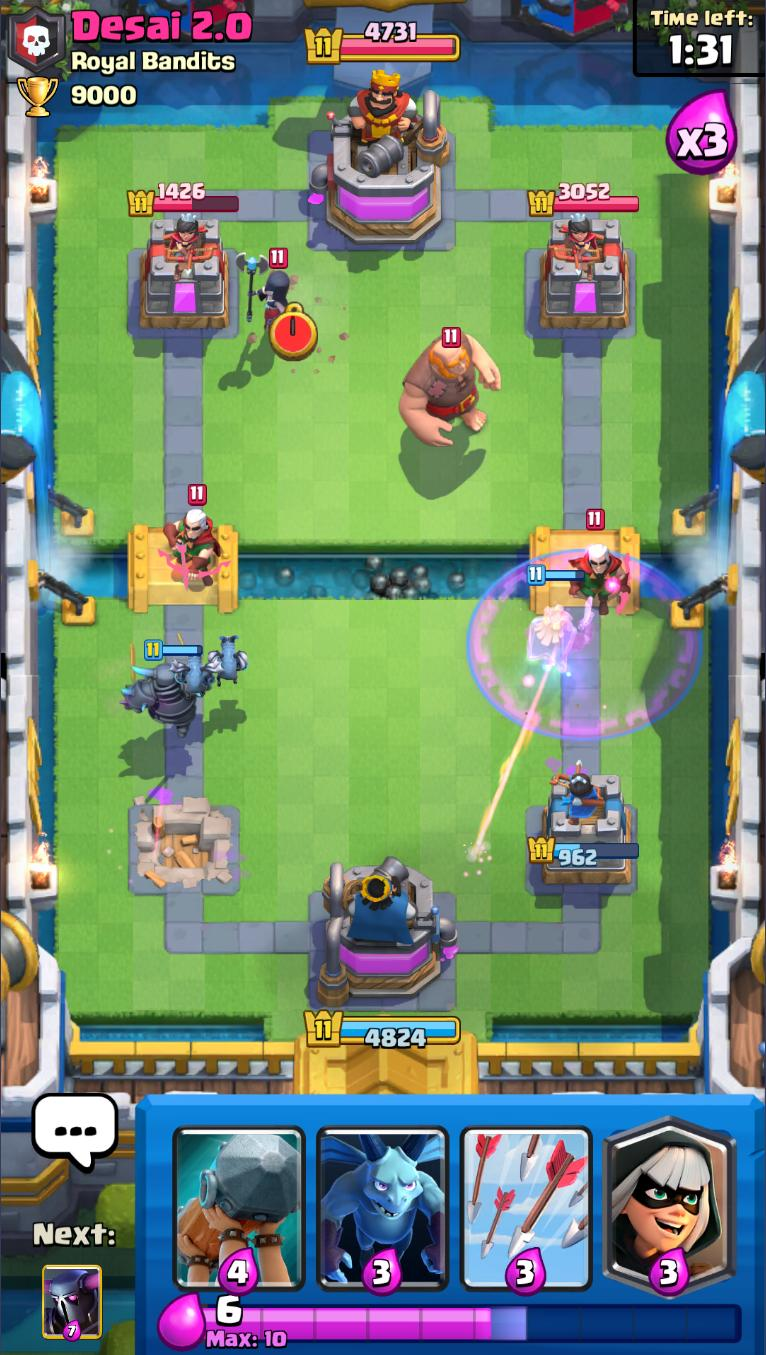ArrowDeck: (454, 1096, 600, 1296)
BanditDeck: (597, 1094, 741, 1299)
BattleRamDeck: (166, 1096, 311, 1294)
Elixir: (203, 1294, 744, 1351)
EnemyTower: (136, 214, 234, 334), (539, 214, 633, 333)
Giant: (397, 326, 503, 447)
KingTower: (309, 79, 454, 250)
KingTowerHP: (307, 20, 461, 64)
MagicArcher: (160, 483, 231, 586), (569, 509, 634, 617)
MinionsDeck: (313, 1099, 451, 1297)
MyKingHP: (303, 1007, 463, 1050)
MyKingTower: (314, 859, 460, 1011)
MyMinion: (171, 649, 221, 699), (206, 633, 251, 686)
MyPekka: (117, 634, 213, 740)
MyPrincessTower: (527, 771, 641, 889)
MyPrincessTowerBrocken: (124, 793, 240, 893)
MyPrincessTowerHP: (526, 834, 641, 866)
MyRoyaleGhost: (526, 563, 596, 676)
NightWitch: (236, 246, 291, 330)
PekkaNext: (41, 1264, 103, 1343)
PrincessTower: (147, 217, 206, 266), (550, 217, 604, 266)
Rage: (466, 549, 701, 736)
TowerPrincessHP: (127, 181, 240, 217), (530, 183, 641, 217)
